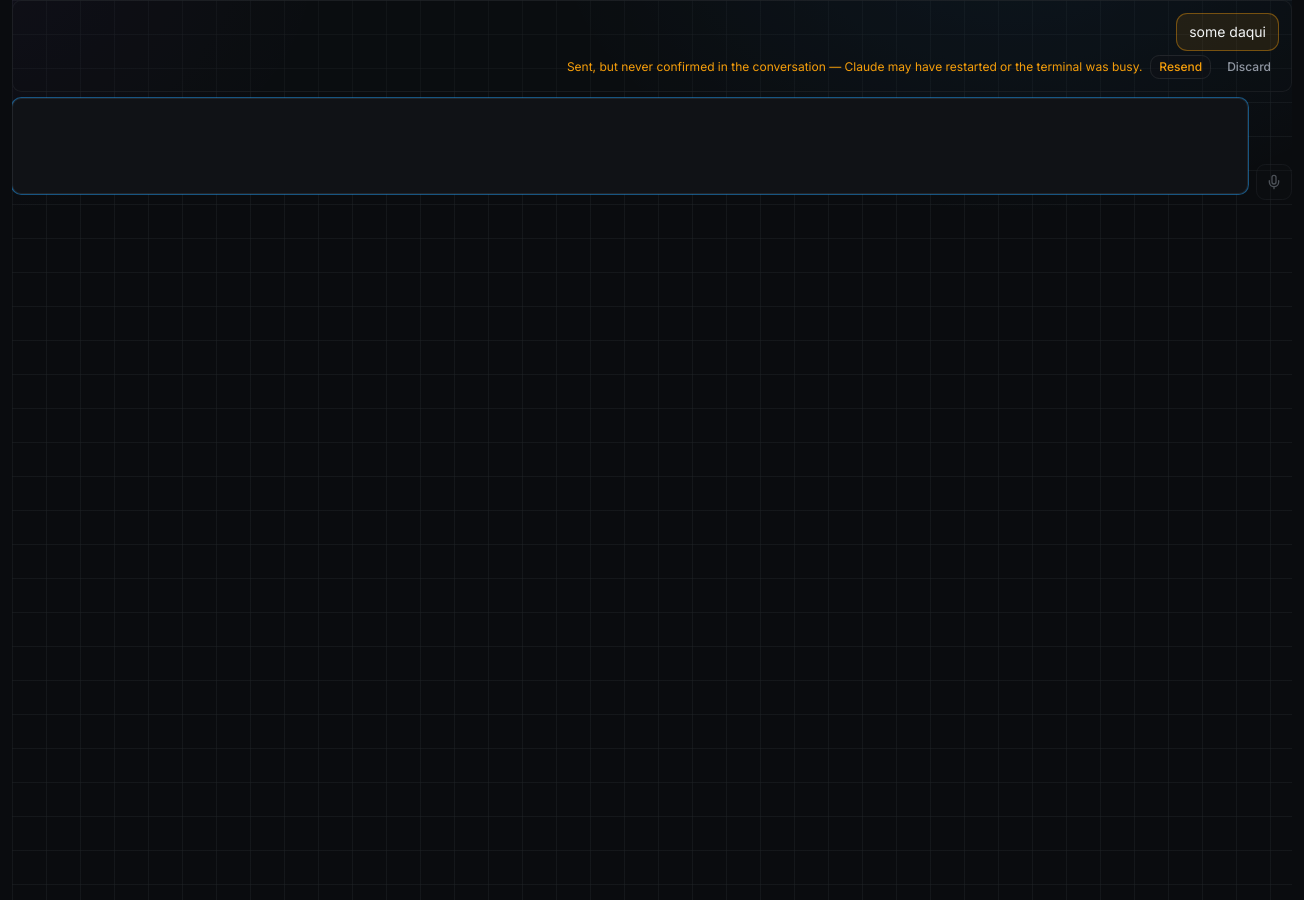
Scenario: ChatView › Discard drops the overdue bubble — and the storage entry with it
The width and height of the screenshot is (1304, 900).
Click the button with test id "chat-pending-discard".
click(1249, 67)  # box x1=1219 y1=55 x2=1279 y2=79
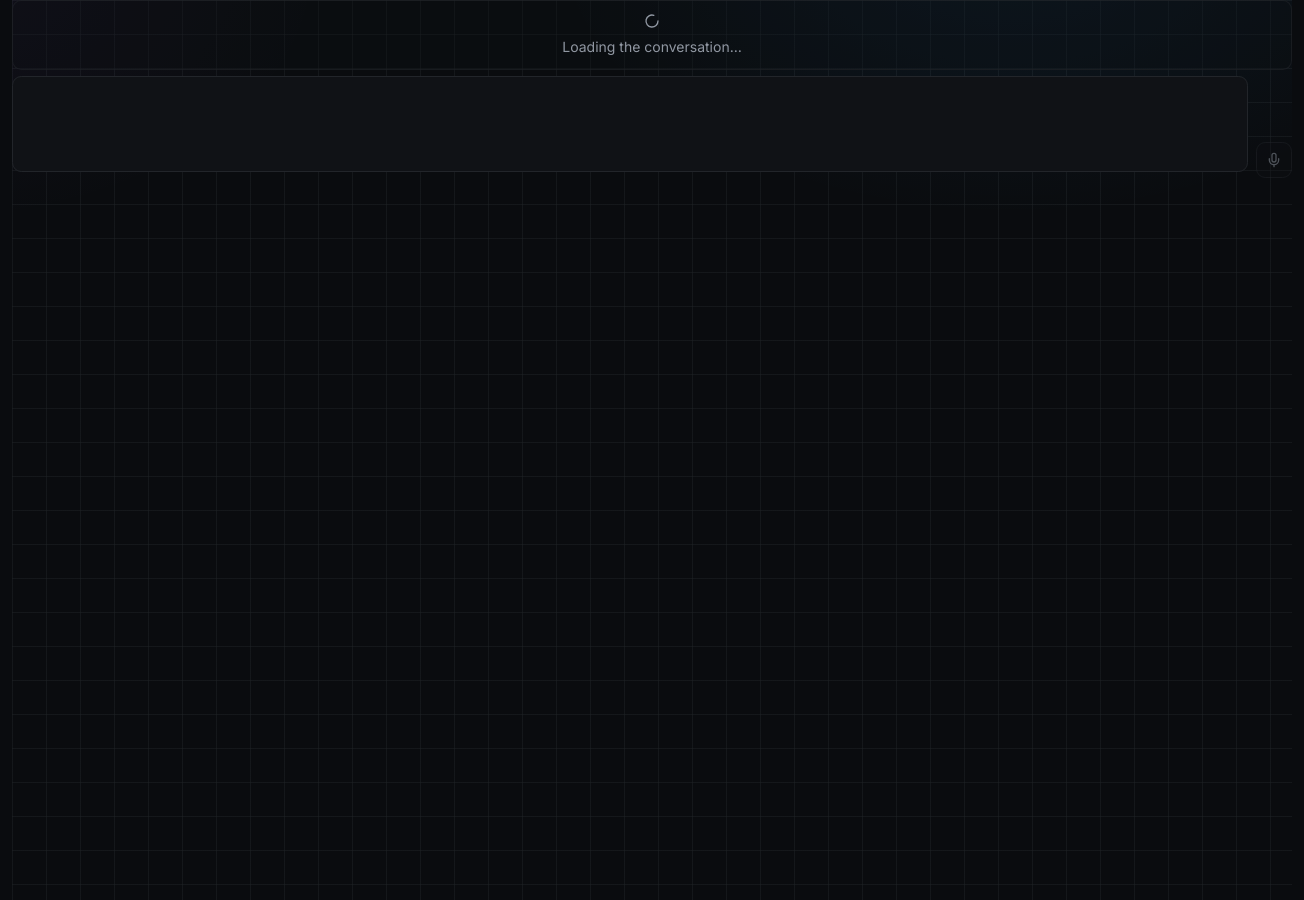
Check: the element with test id "chat-pending-stuck" is gone
Check: the text "some daqui" is gone
